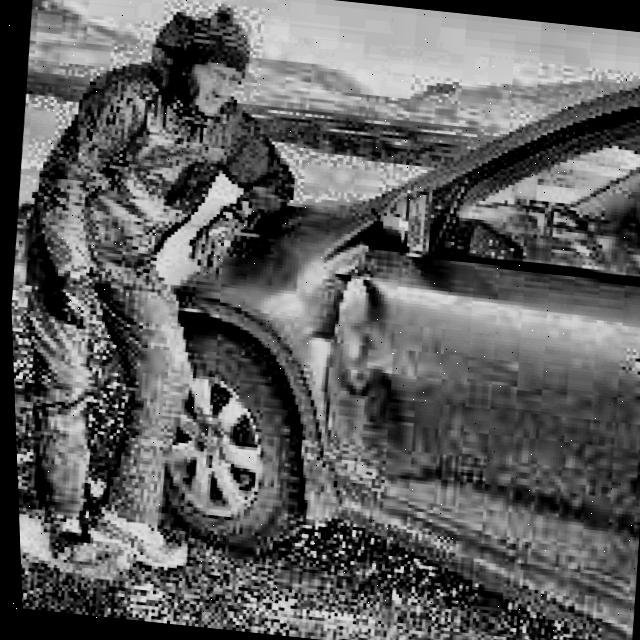door_dent: (293, 269, 414, 456)
